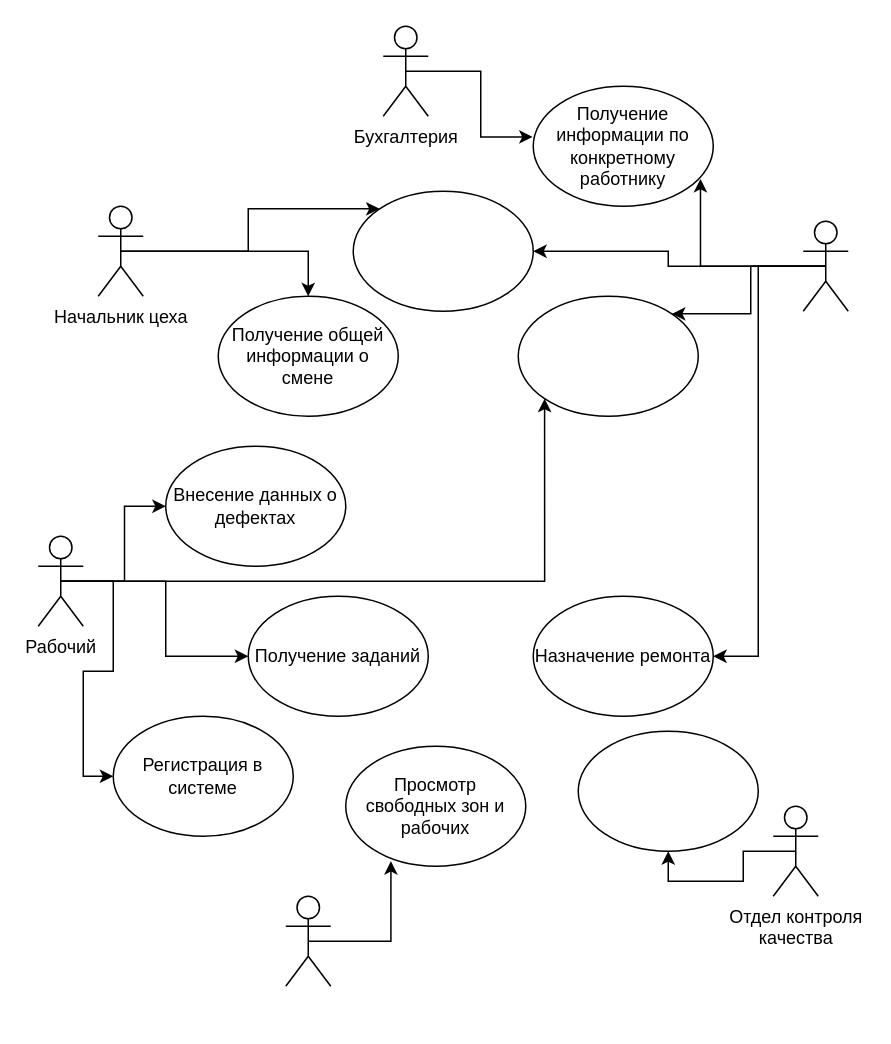
Some shapes in this 891 by 1044 pixel diagram are drawn without their labels. Here are the shapes that lost their labels. From the top down, the centre of each, then its label:
point (442, 250): Внесение данных о ремонтных местах
point (825, 265): Бригадир
point (607, 355): Фиксация подробностей ремонтной работы
point (667, 790): Получение детальной статистики за смену
point (307, 940): Диспетчер
